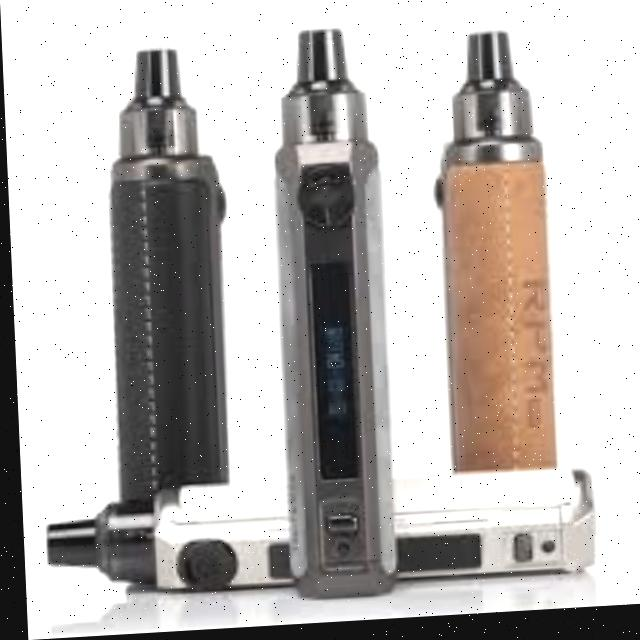vape: (40, 468, 592, 602), (266, 32, 395, 594), (100, 49, 232, 490), (431, 34, 554, 475)
